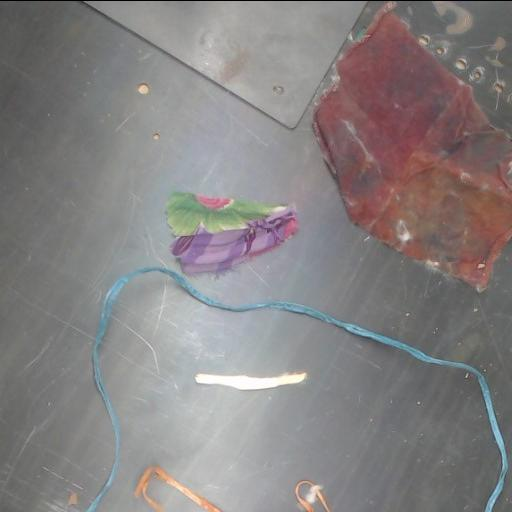cloth: (314, 12, 511, 288), (167, 193, 296, 275)
conveyor belt: (0, 1, 509, 512), (98, 273, 497, 512)
thread: (86, 267, 507, 512), (135, 466, 222, 512), (195, 373, 306, 389), (295, 481, 330, 512)
